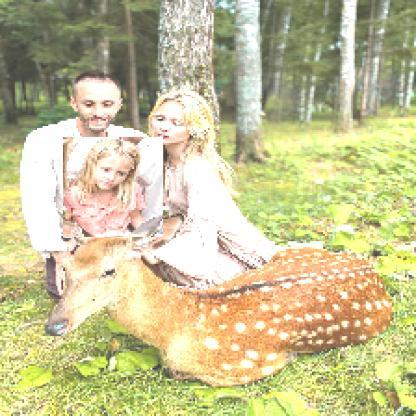child: (64, 138, 165, 239)
